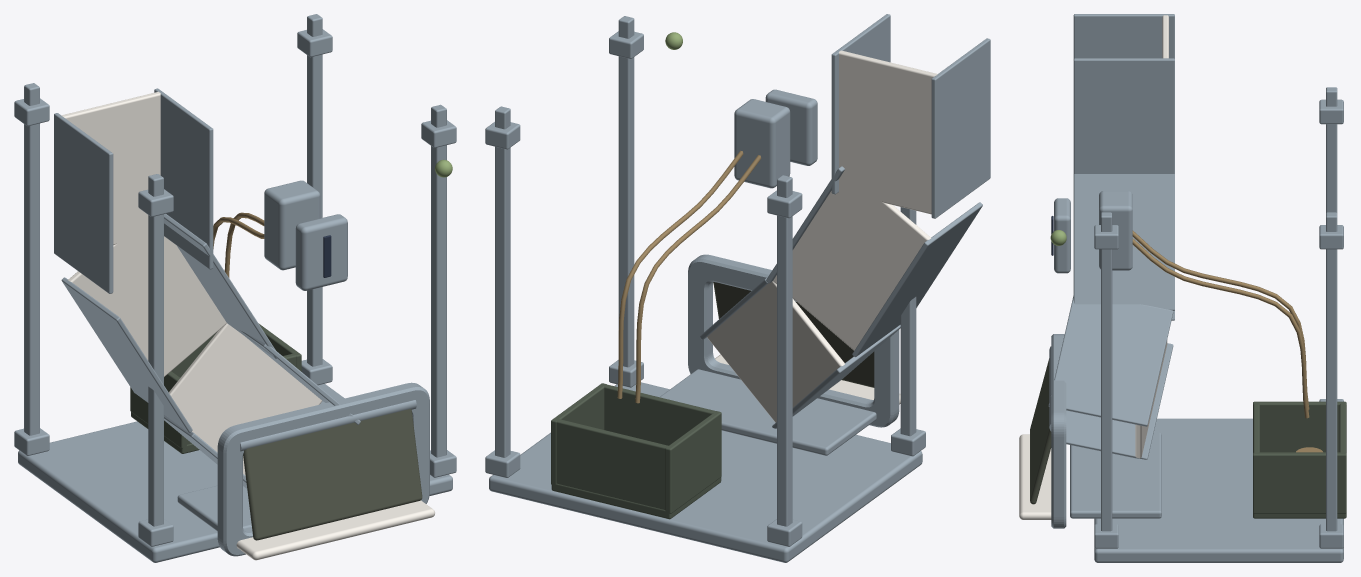
File: machine-sky-core.glb
The picture shows the model from 3 angles, left to right: view 1: azimuth 30°, elevation 25°; view 2: azimuth 150°, elevation 25°; view 3: azimuth 270°, elevation 25°; orthographic projection. The views are drawn at different scales.
Visible parts, largest first — view 1: PaperCapsuleMachine_Batch0, PaperCapsuleMachine_Batch1, OutletFlap_Batch0; view 2: PaperCapsuleMachine_Batch0, PaperCapsuleMachine_Batch1, OutletFlap_Batch0; view 3: PaperCapsuleMachine_Batch0, PaperCapsuleMachine_Batch1, OutletFlap_Batch0.
Boxes of the visible parts, x1,y1,x2,y2 form: PaperCapsuleMachine_Batch0: (14, 14, 456, 562); PaperCapsuleMachine_Batch1: (61, 91, 452, 560); OutletFlap_Batch0: (243, 409, 422, 540); PaperCapsuleMachine_Batch0: (485, 14, 990, 562); PaperCapsuleMachine_Batch1: (551, 32, 937, 519); OutletFlap_Batch0: (713, 282, 874, 387); PaperCapsuleMachine_Batch0: (1048, 14, 1343, 562); PaperCapsuleMachine_Batch1: (1019, 15, 1346, 519); OutletFlap_Batch0: (1030, 358, 1051, 504).
Size of the model in its own units: 0.2008 by 0.231 by 0.1745.
